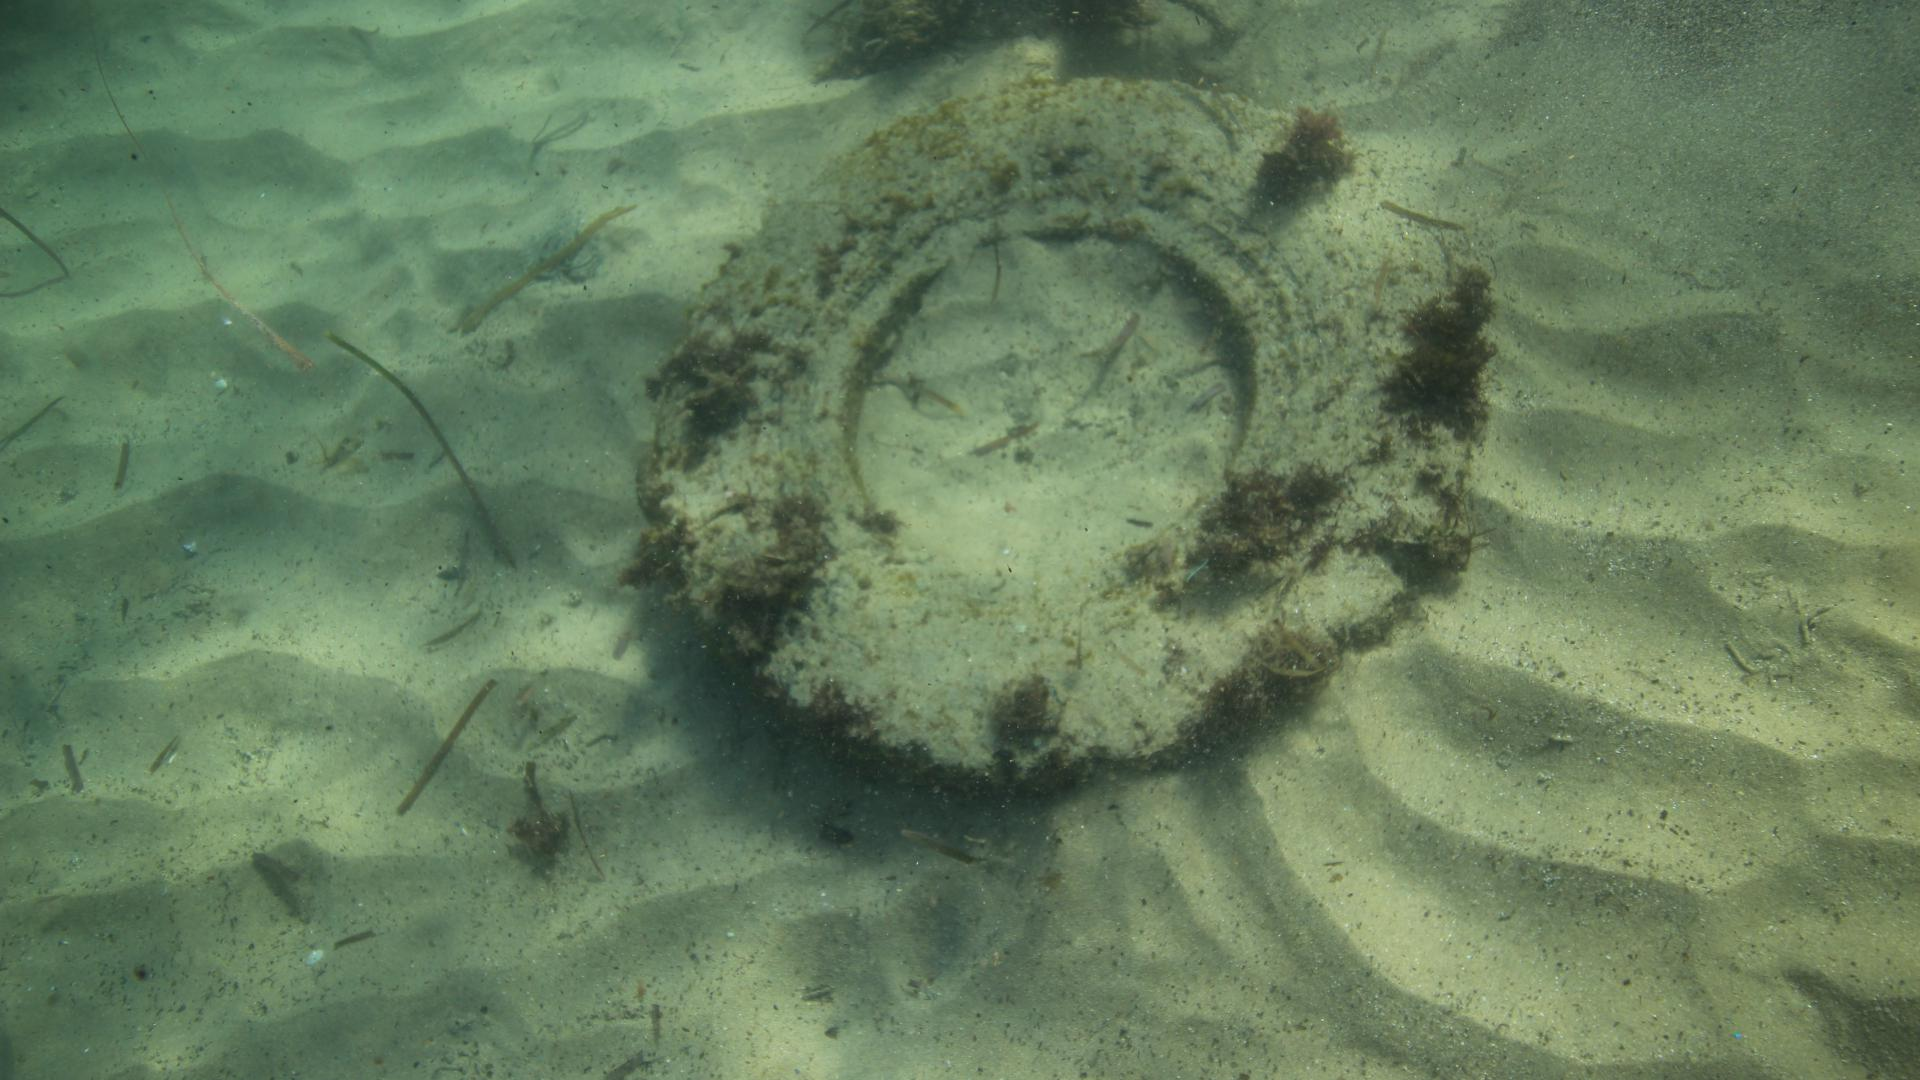tire: (651, 73, 1466, 786)
